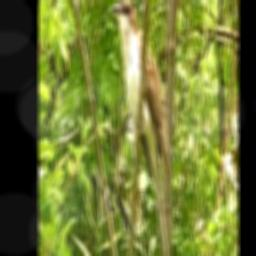Cuckoo: (111, 0, 169, 256)
